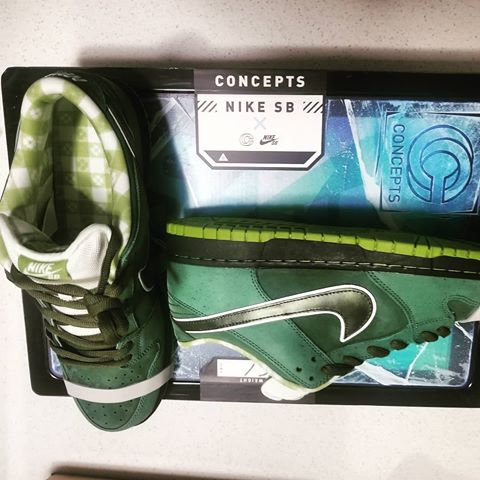Nike SB Dunk Green Lobster: (1, 59, 174, 437), (161, 197, 480, 387)
